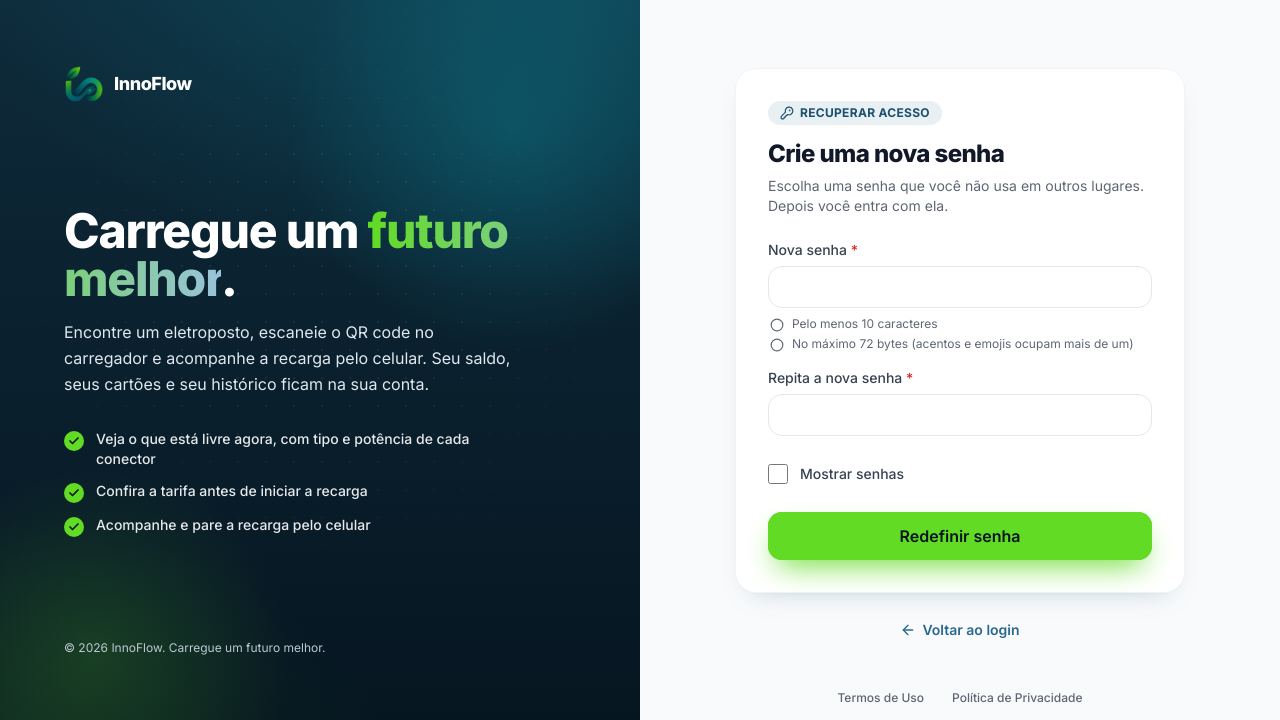
Test: ResetPassword - respostas do servidor › RESET_TOKEN_INVALID: troca o formulário por 'link inválido' (a senha digitada some)
Type "uma senha nova bem longa" into the password field labelled "Nova senha *" at (960, 286), box [768,266,1152,308]
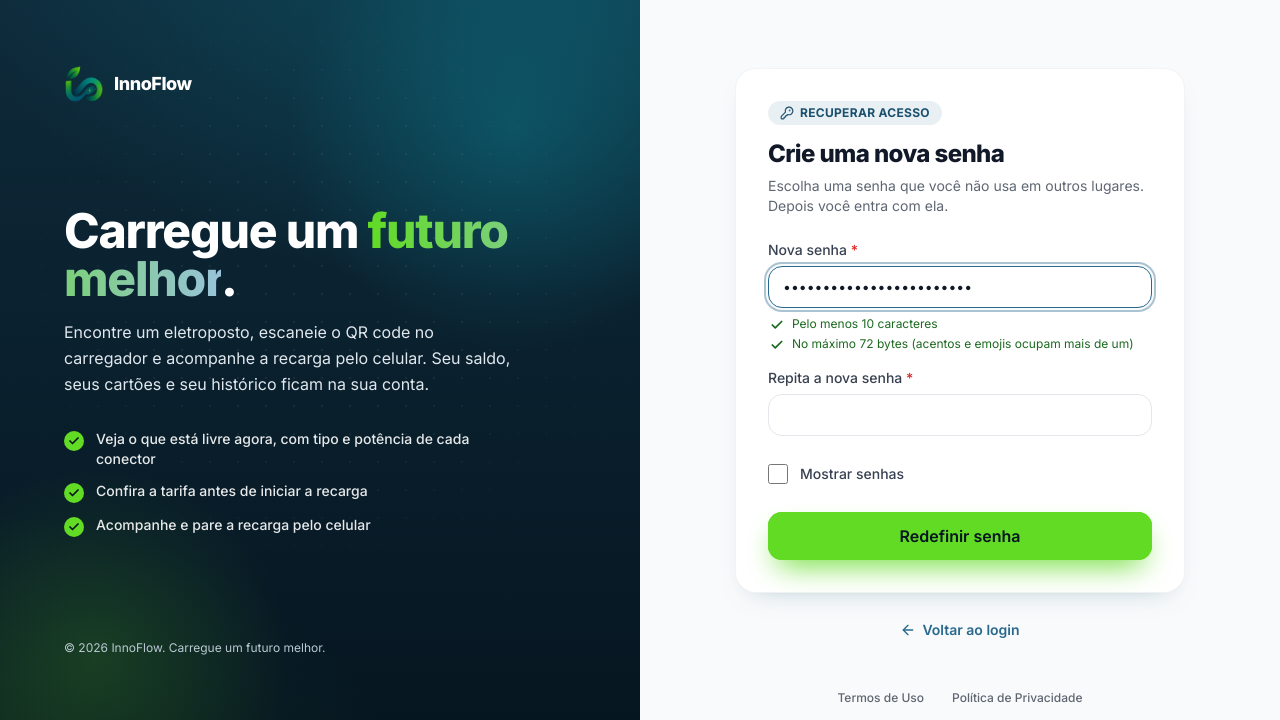
Type "uma senha nova bem longa" into the password field labelled "Repita a nova senha *" at (960, 414), box [768,394,1152,436]
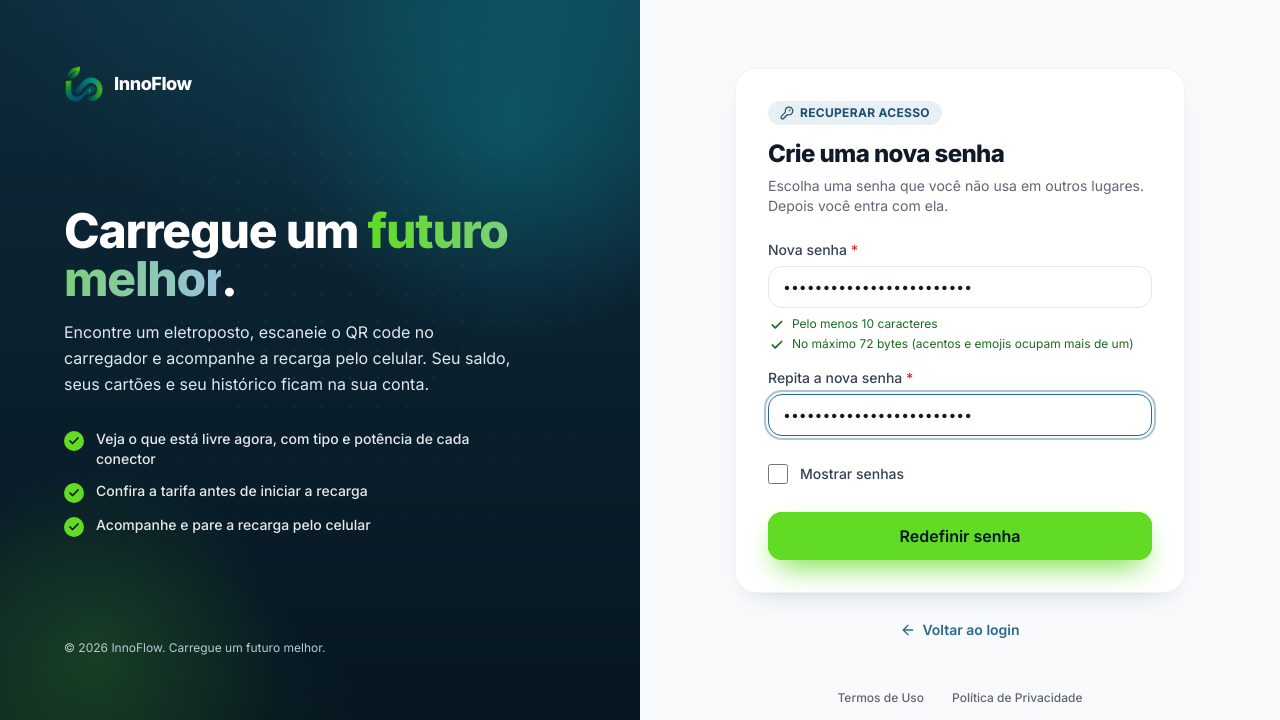
Click the button "Redefinir senha" at (960, 536), box [768,512,1152,560]
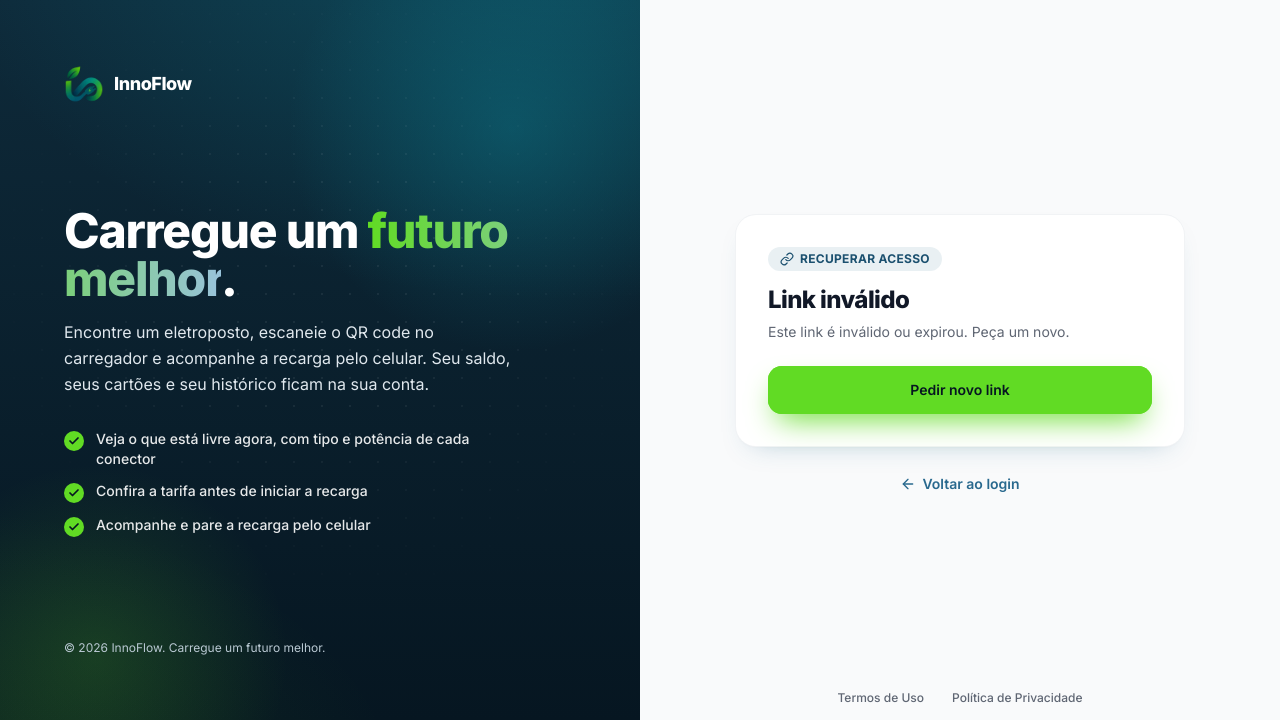
Now the heading "Link inválido" is shown, box [768,284,1152,316]
